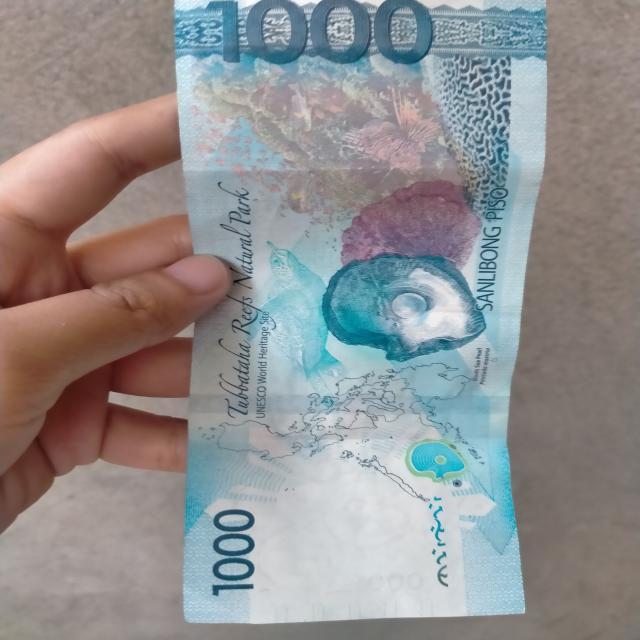security_thread: (190, 394, 513, 417)
see_through_mark: (420, 494, 483, 594)
watermark: (251, 469, 414, 584)
